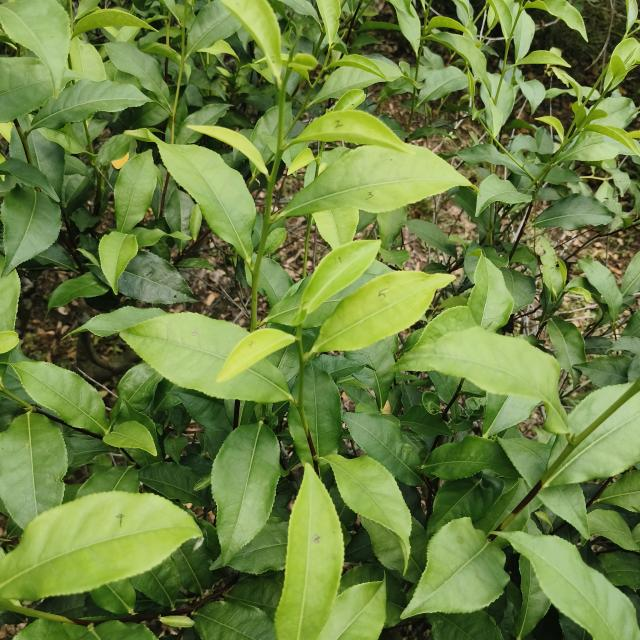Leaf: (0, 491, 202, 600), (419, 327, 568, 433), (498, 531, 640, 640), (121, 312, 290, 403), (280, 144, 470, 217), (275, 464, 344, 640), (309, 271, 454, 353), (157, 141, 256, 261), (402, 517, 509, 618), (320, 454, 411, 569), (211, 423, 280, 566), (0, 412, 68, 529), (294, 240, 380, 324), (11, 361, 109, 434), (0, 0, 71, 97), (343, 412, 422, 486), (31, 80, 150, 129), (0, 186, 61, 276), (221, 0, 282, 87), (294, 111, 414, 154), (426, 473, 505, 536), (311, 56, 403, 104), (118, 251, 198, 305), (216, 328, 295, 382), (105, 42, 169, 108), (422, 436, 518, 480), (300, 360, 343, 456), (317, 581, 386, 640), (345, 335, 398, 409), (188, 126, 268, 175), (114, 150, 157, 234), (468, 256, 514, 331), (0, 57, 53, 122), (227, 519, 288, 574), (194, 601, 276, 640), (139, 462, 210, 507), (187, 0, 241, 55), (429, 32, 488, 82), (578, 258, 623, 323), (70, 306, 166, 336), (537, 484, 590, 538), (546, 318, 586, 389), (534, 194, 612, 230), (538, 484, 590, 537), (498, 438, 551, 489), (524, 0, 588, 41), (0, 157, 59, 201), (131, 556, 179, 609), (58, 424, 111, 472), (27, 130, 65, 196), (99, 231, 138, 294), (475, 174, 531, 216), (48, 273, 108, 312), (172, 538, 213, 594), (175, 103, 230, 144), (71, 9, 148, 38), (118, 362, 163, 411), (588, 509, 640, 551), (428, 611, 503, 640), (76, 466, 139, 498), (404, 219, 457, 257), (416, 67, 467, 106), (313, 206, 359, 249), (604, 38, 640, 90), (103, 421, 157, 455), (556, 132, 617, 162), (399, 403, 452, 437), (576, 355, 632, 387), (585, 122, 640, 154), (591, 90, 636, 129), (90, 578, 136, 615), (457, 144, 520, 171), (258, 257, 292, 306), (70, 36, 106, 82), (539, 237, 566, 298), (389, 0, 420, 53), (14, 618, 84, 640), (250, 106, 278, 160), (330, 54, 389, 79), (287, 406, 312, 463), (164, 188, 194, 233), (377, 206, 407, 249), (37, 128, 85, 154), (130, 227, 189, 248), (62, 174, 92, 215), (0, 270, 20, 331), (97, 134, 135, 165), (317, 0, 341, 44), (514, 10, 534, 61), (517, 79, 545, 114), (487, 0, 513, 37), (140, 43, 180, 66), (515, 51, 570, 67), (621, 251, 640, 297), (483, 94, 503, 137), (282, 0, 319, 23), (428, 16, 471, 35), (199, 40, 238, 58), (71, 207, 99, 231), (164, 435, 187, 463), (380, 247, 409, 267), (265, 227, 286, 254), (9, 131, 26, 161), (625, 0, 638, 35), (283, 102, 293, 132), (19, 116, 28, 133), (246, 271, 252, 285), (0, 255, 5, 271)
